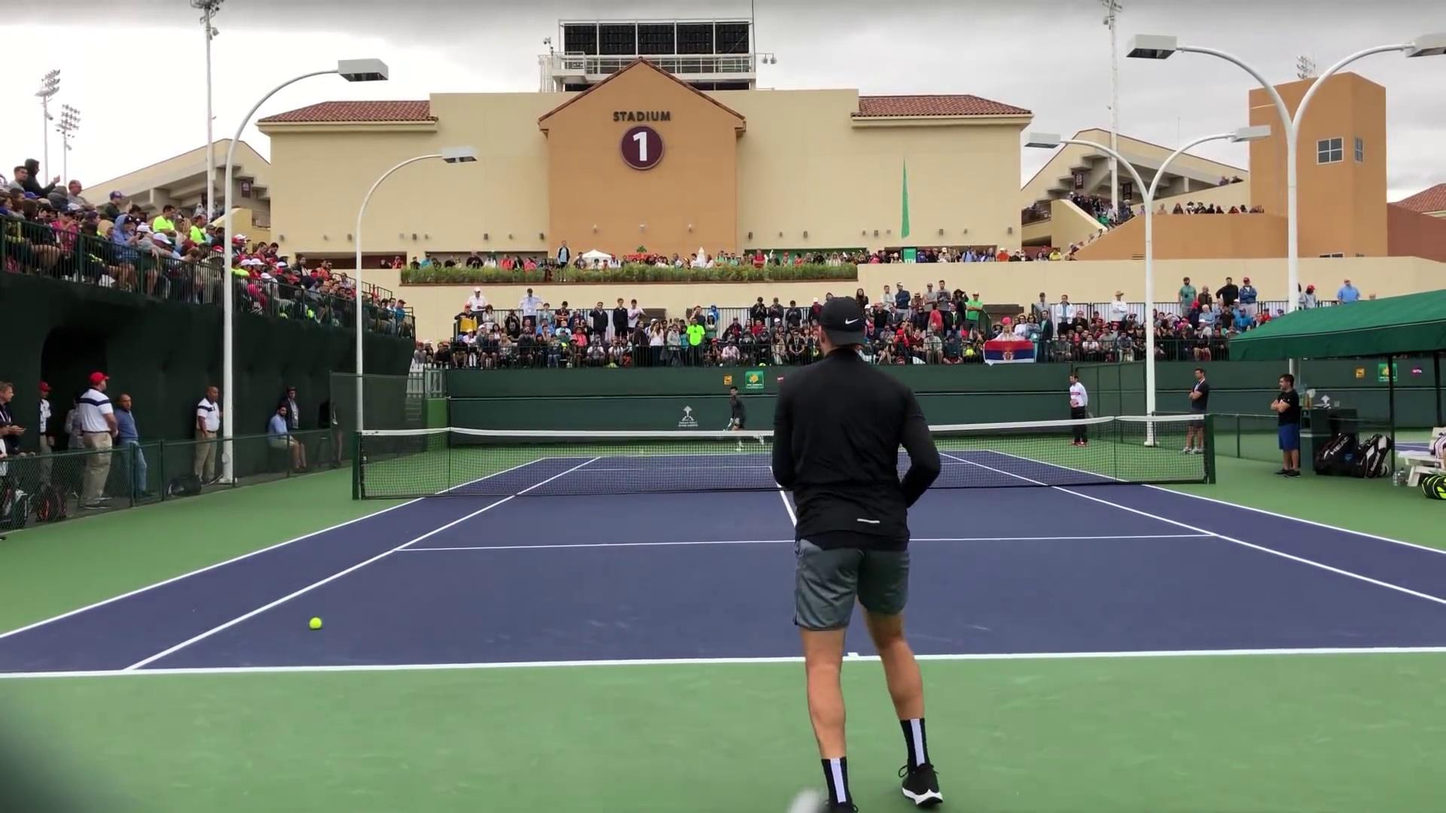ball: (308, 617, 322, 630), (635, 445, 647, 457)
